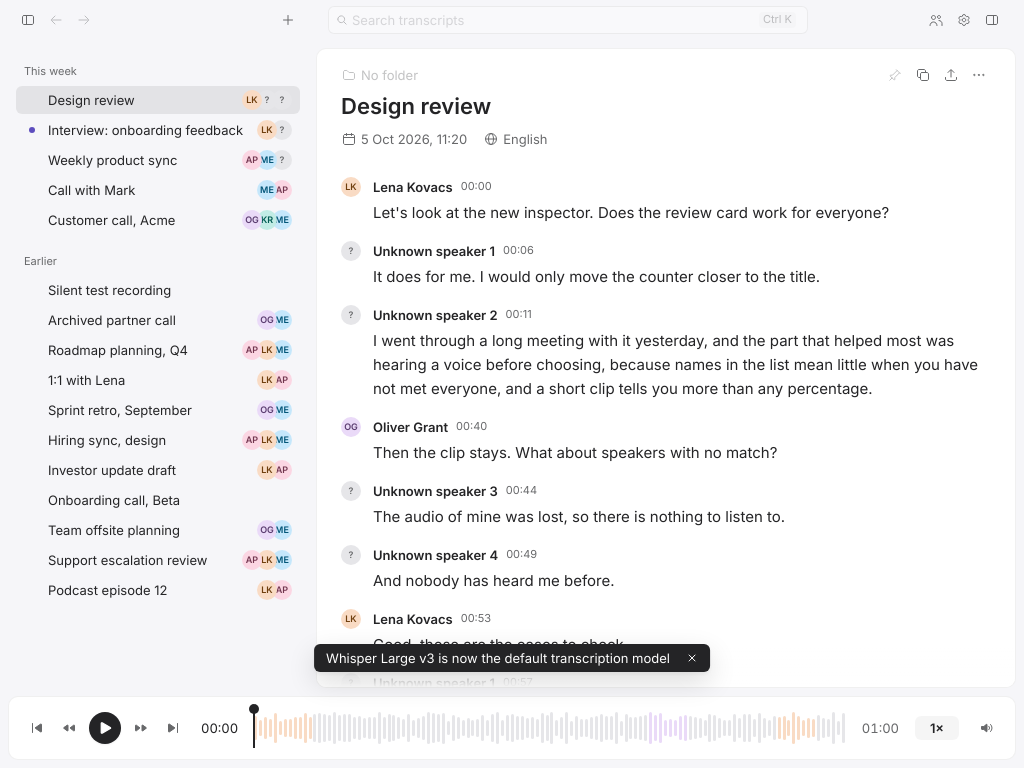
Test: a selected app that is no longer in the list stays, by its id
The image size is (1024, 768).
Expected: the element "This week" is shown, [16,60,300,234]
What coordinates should you click on to do the following:
click the button named "Settings"
I would click on:
 (964, 20)
Its box is [952,8,976,32].
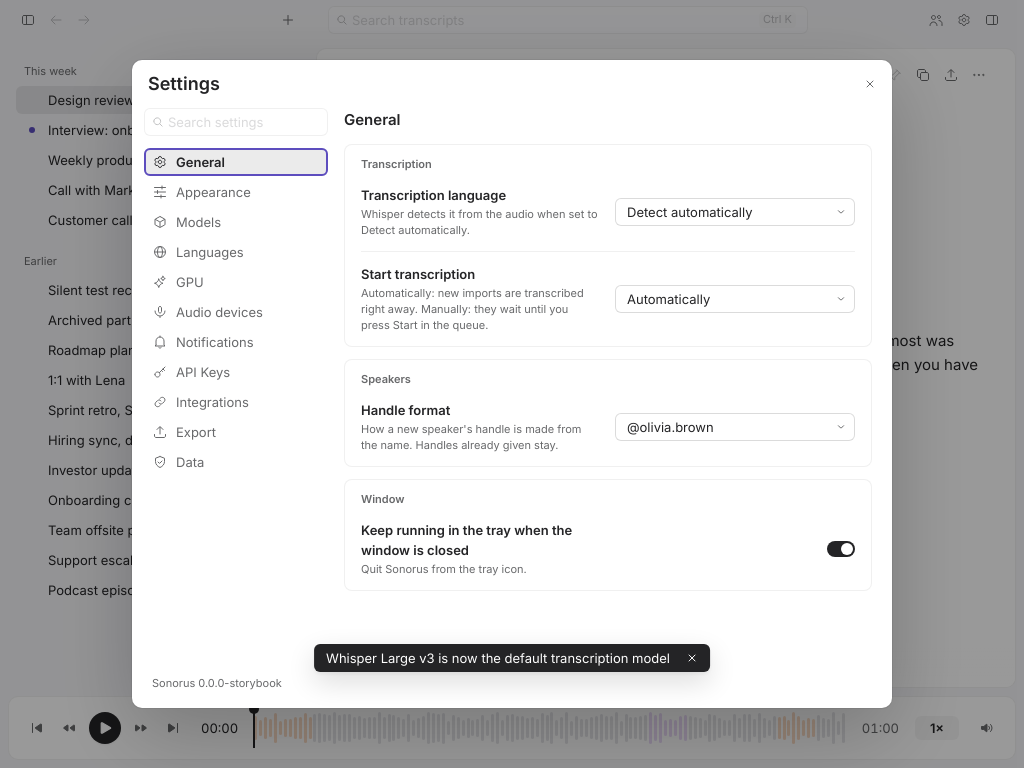
What coordinates should you click on to do the following:
click the tab "Notifications"
I would click on:
 (236, 342)
Its box is [144,328,328,356].
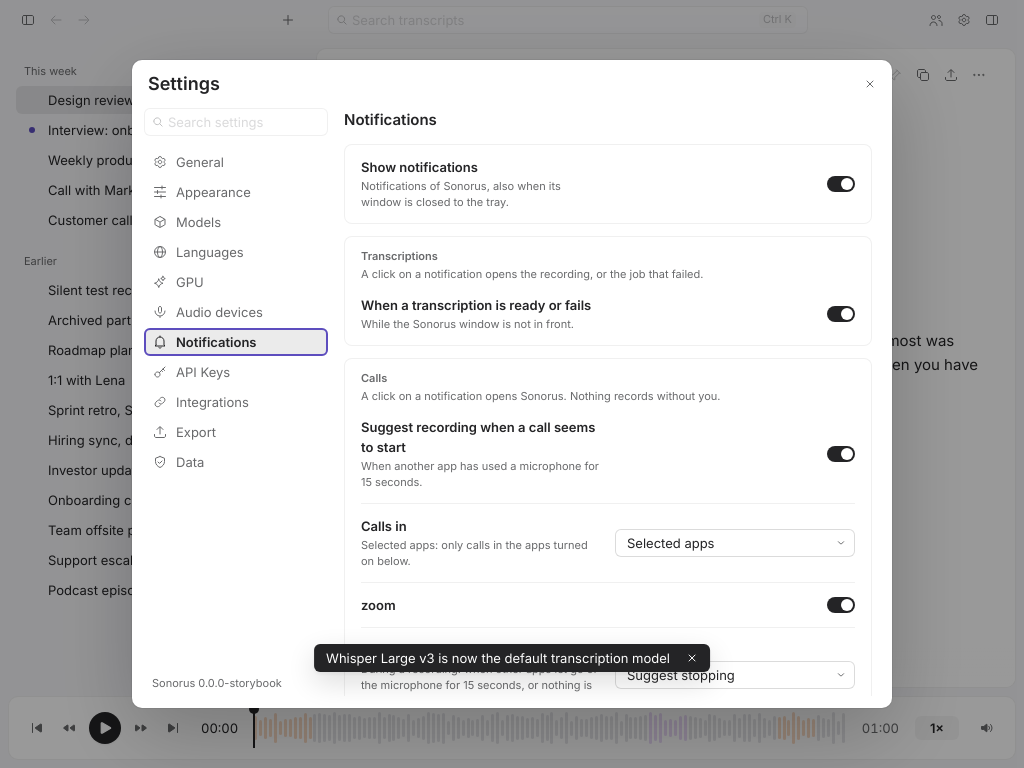
Expected: the heading "Notifications" is shown, [344,110,437,129]
